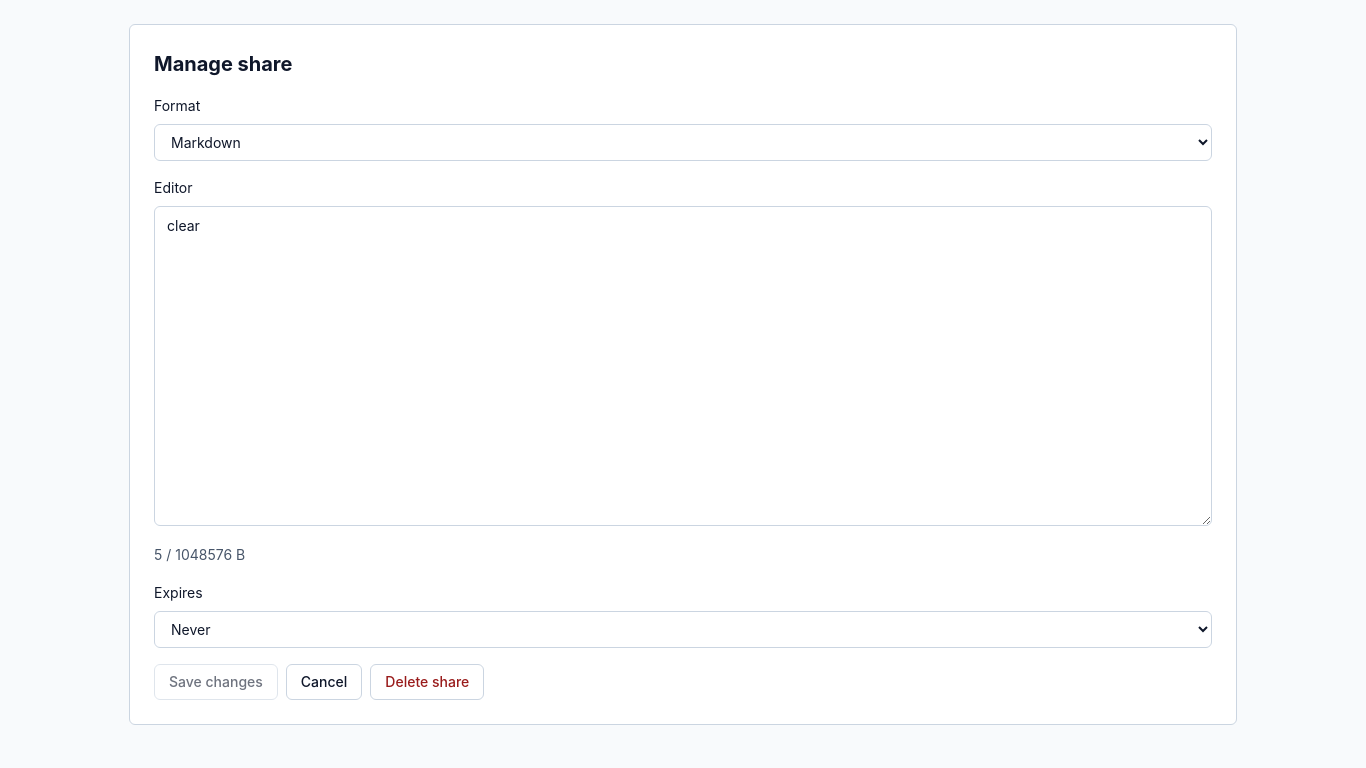
Scenario: ManageRoute state regressions › deletes encrypted dirty markdown without refetch
Replace the text in the text box labelled "Editor" with "draft" at x=683, y=366, box [154, 206, 1212, 526]
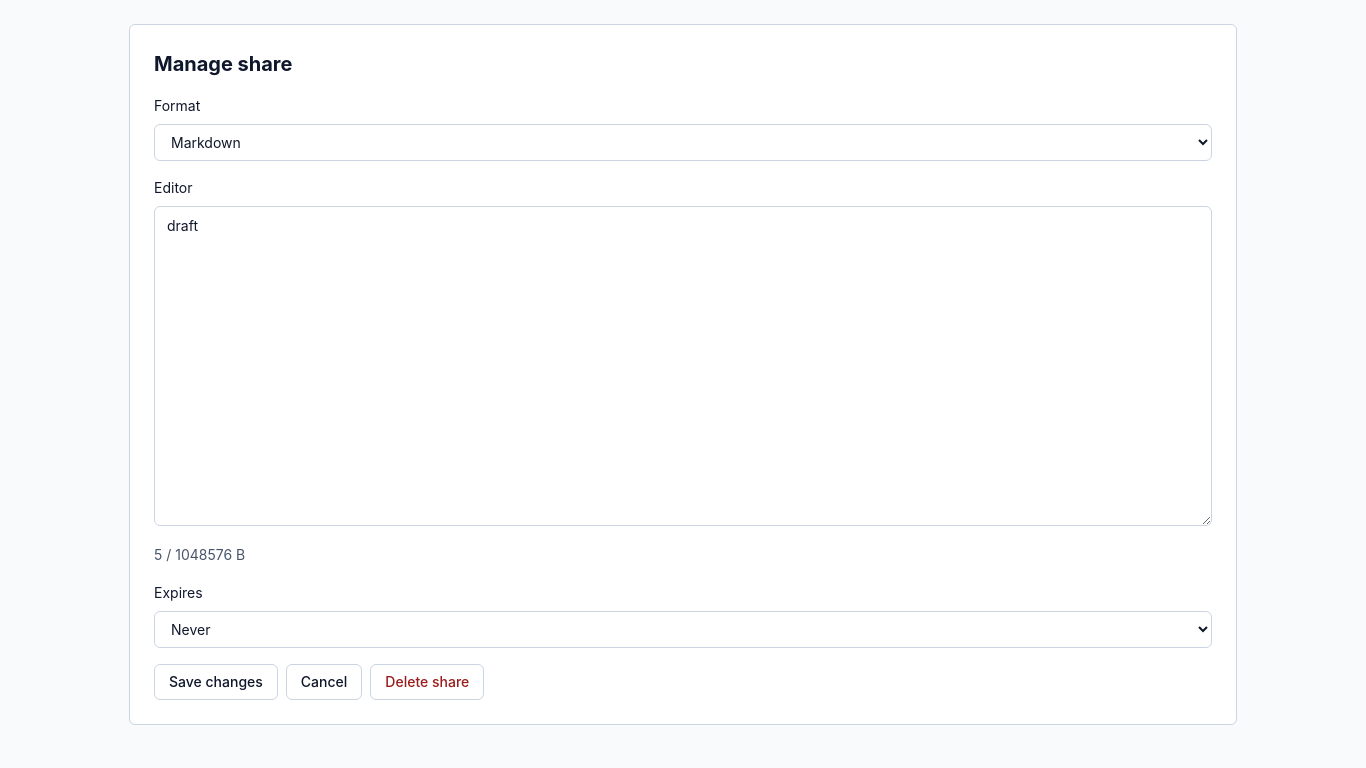
Click the button "Delete share".
click(427, 682)  # box [370, 664, 484, 700]
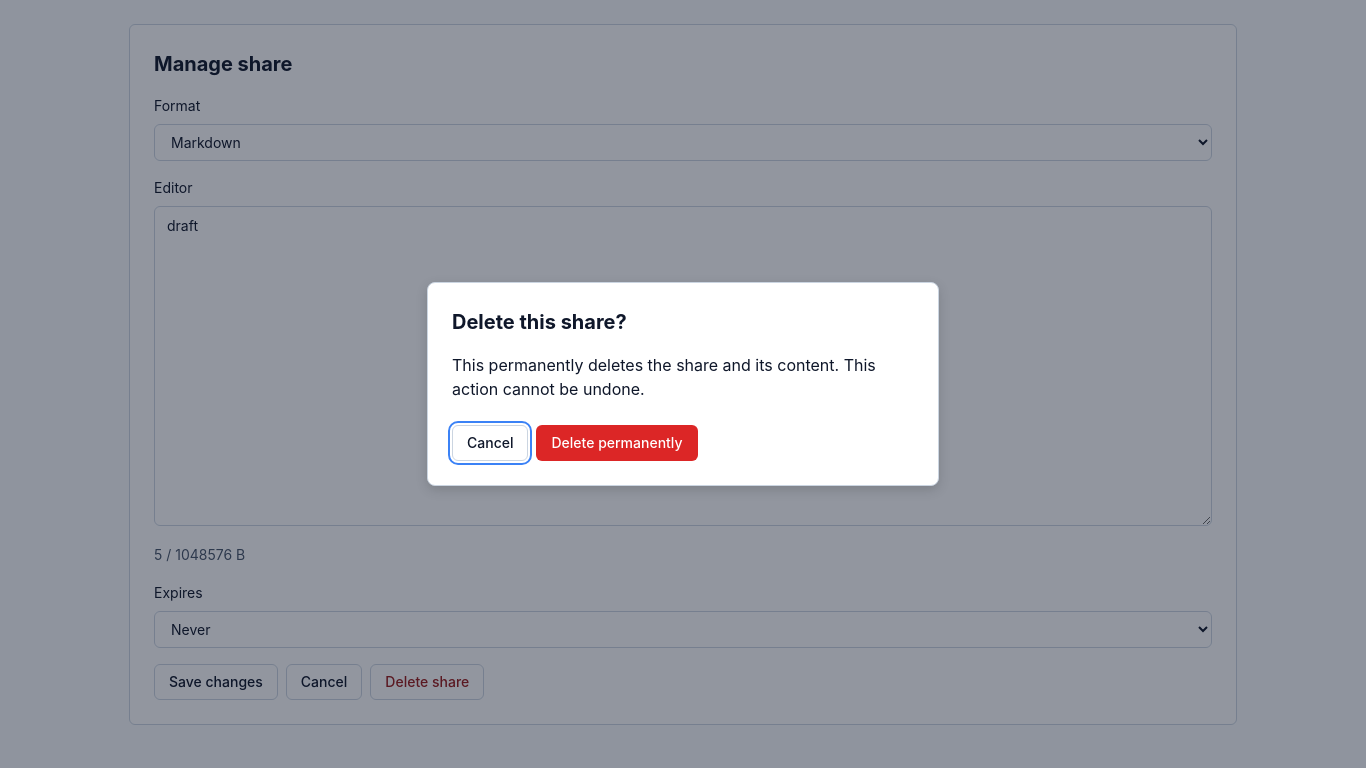
Click the button "Delete permanently".
click(617, 443)  # box [536, 425, 698, 461]
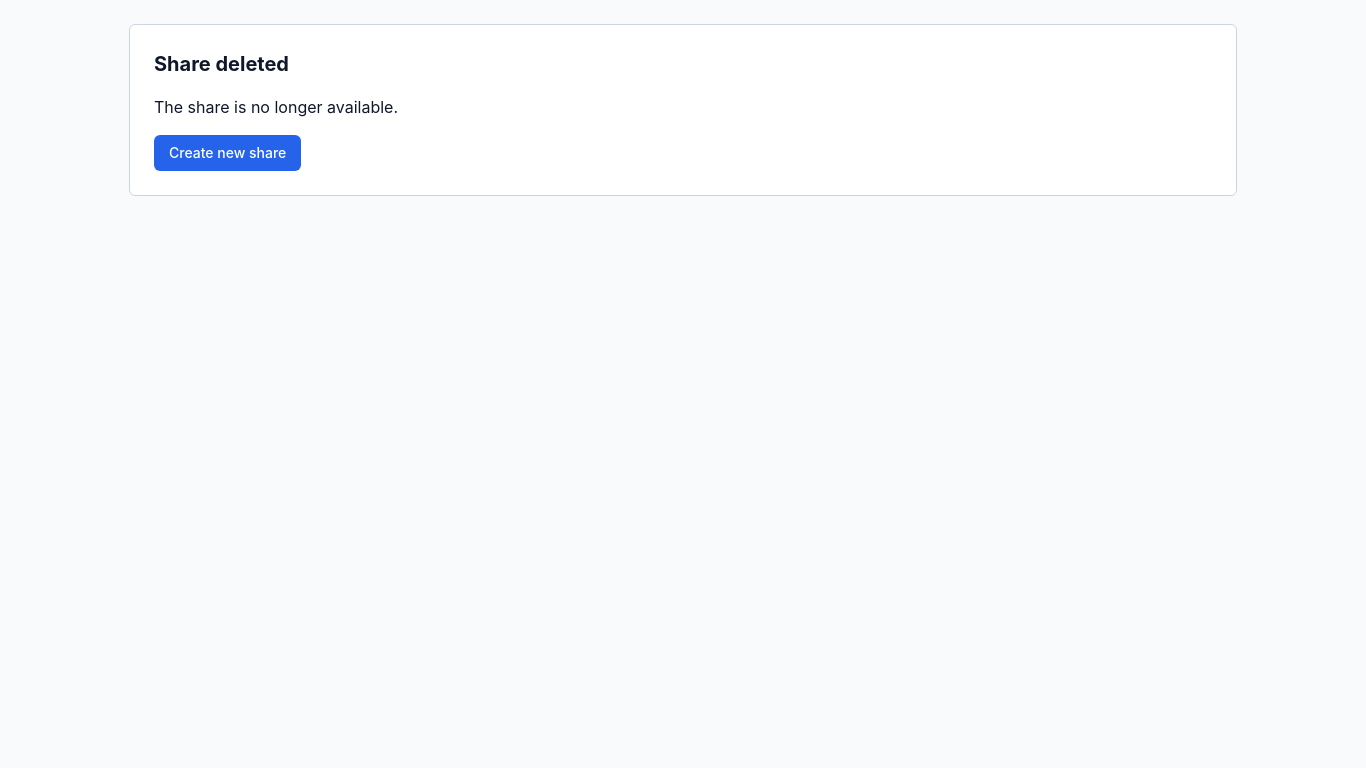
Now the heading "Share deleted" is shown, box [154, 52, 289, 76]
